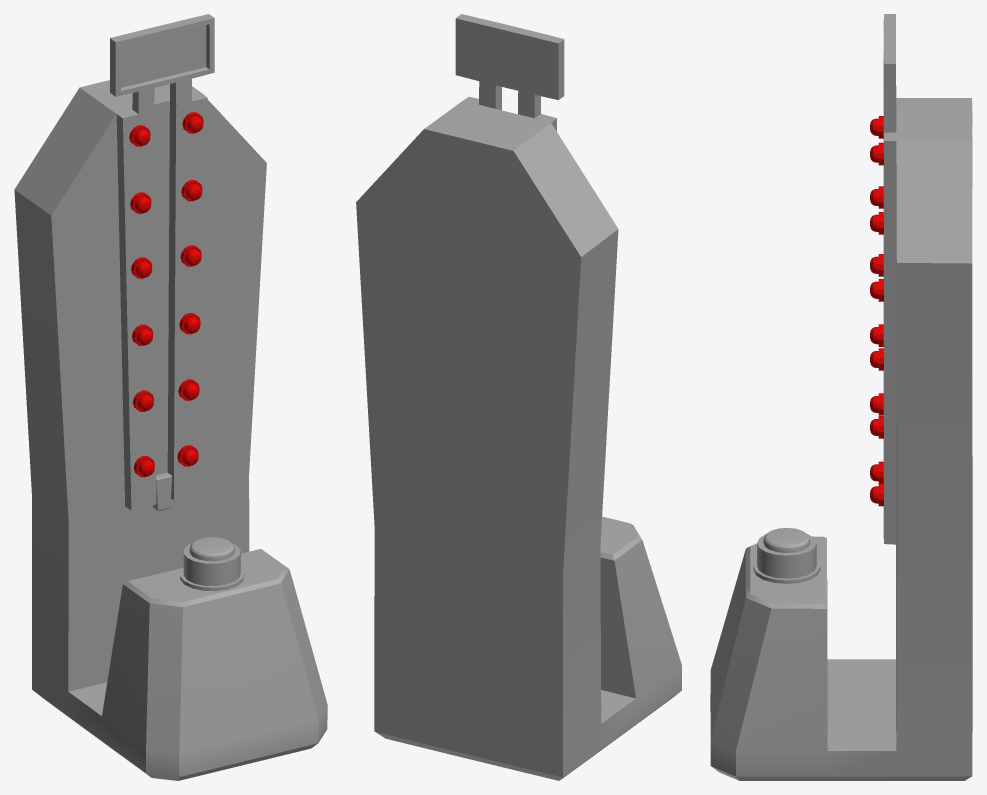
Rendered from Body_LP V7 1.fbx.
The picture shows the model from 3 angles, left to right: view 1: azimuth 30°, elevation 25°; view 2: azimuth 150°, elevation 25°; view 3: azimuth 270°, elevation 25°; orthographic projection. The views are drawn at different scales.
Parts seen in each view (by area): view 1: Body_LP, Button_LP, Needle_LP; view 2: Body_LP; view 3: Body_LP, Button_LP.
Part boxes in pixels (<box>): Body_LP: <box>14,14,327,780</box>; Button_LP: <box>180,537,244,591</box>; Needle_LP: <box>153,472,172,510</box>; Body_LP: <box>356,14,681,780</box>; Body_LP: <box>710,14,972,780</box>; Button_LP: <box>753,528,820,583</box>.
Bounding box in the file's own units: 101 × 302 × 102.
